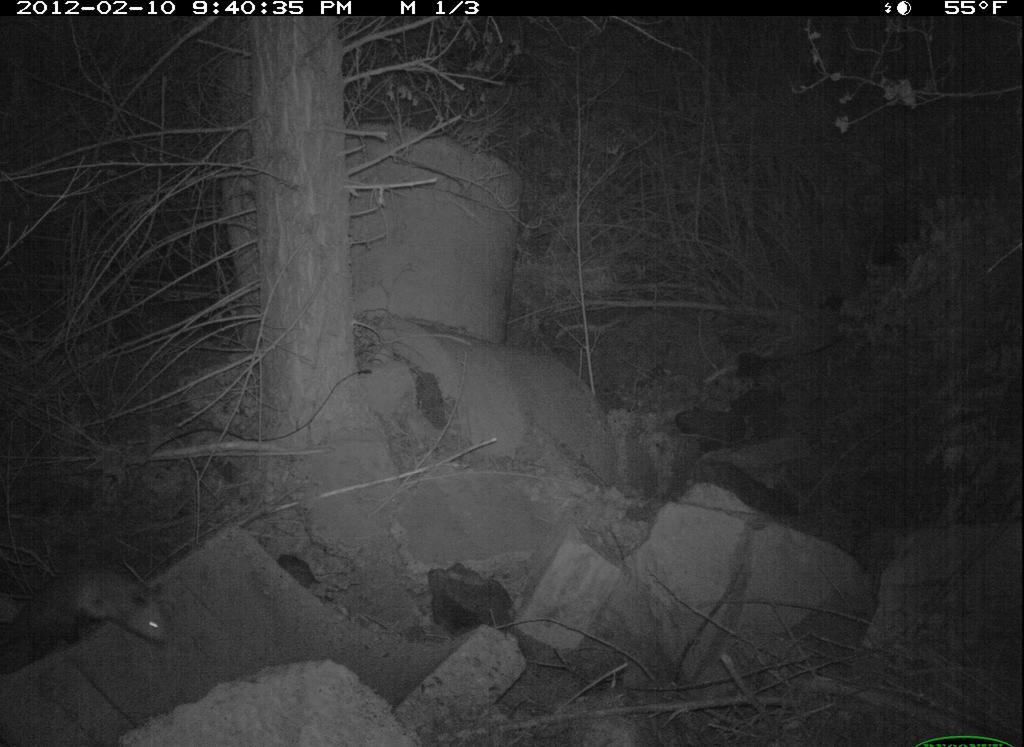opossum: (3, 556, 178, 669)
